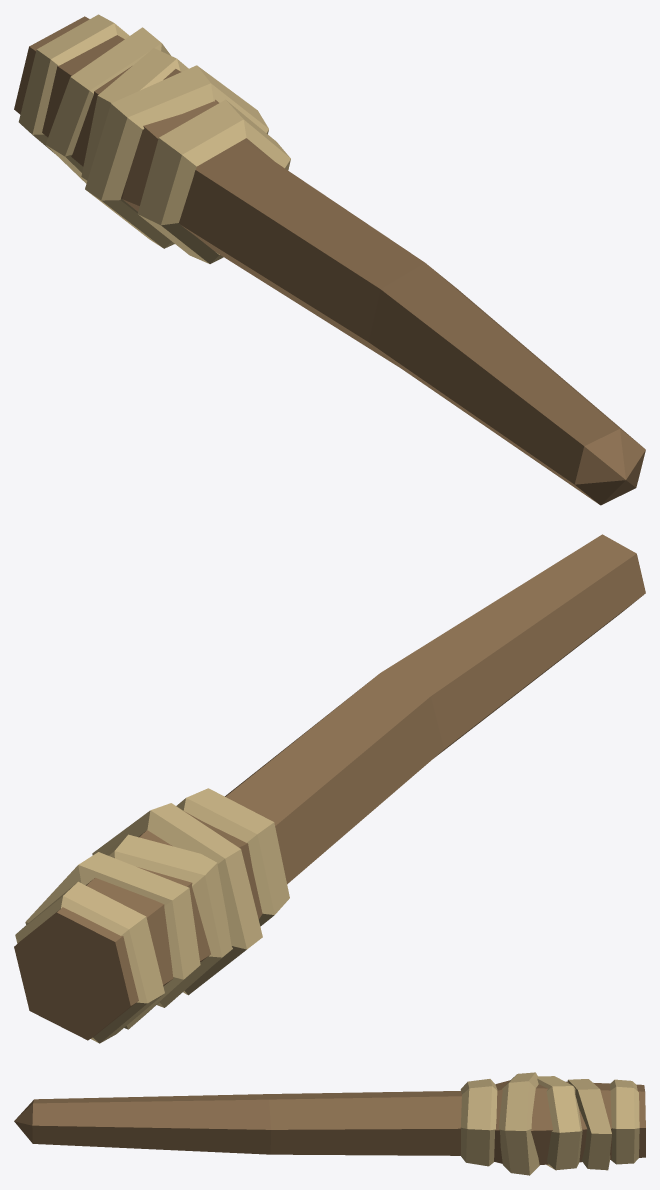
Rendered from rpgpp_ag_torch_01.fbx.
3 renders of one model, top to bottom at view 1: azimuth 30°, elevation 25°; view 2: azimuth 150°, elevation 25°; view 3: azimuth 270°, elevation 25°, orthographic. The views are drawn at different scales.
Parts seen in each view (by area): view 1: rpgpp_ag_torch_01; view 2: rpgpp_ag_torch_01; view 3: rpgpp_ag_torch_01.
Part boxes in pixels (box(x1,y1,x2,y2)): rpgpp_ag_torch_01: box(14, 14, 645, 505); rpgpp_ag_torch_01: box(14, 534, 645, 1043); rpgpp_ag_torch_01: box(14, 1072, 645, 1175).
Size of the model in its own units: 0.151 by 0.1489 by 0.8895.
